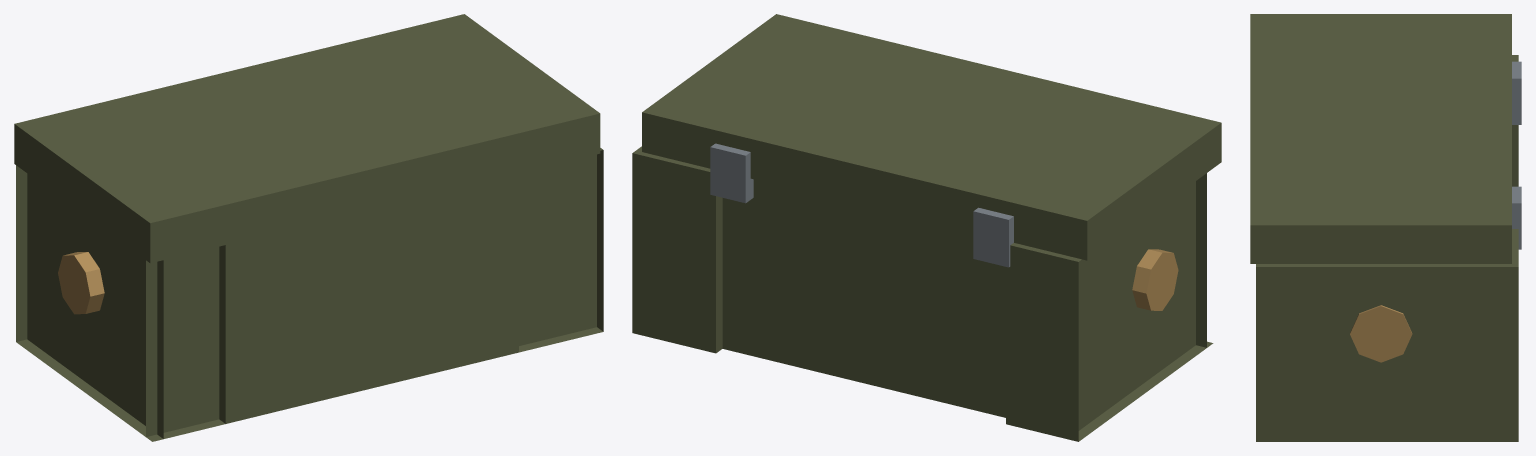
Rendered from ammo-crate.glb.
3 views of the same model, side by side, from view 1: azimuth 30°, elevation 25°; view 2: azimuth 150°, elevation 25°; view 3: azimuth 270°, elevation 25° (orthographic). The views are drawn at different scales.
Parts seen in each view (by area): view 1: Body, Lid, Handle_L; view 2: Body, Lid, Handle_L, Latch_R, Latch_L; view 3: Lid, Body, Handle_R, Latch_L, Latch_R.
Boxes of the visible parts, left/top/right/bottom form: Body: left=16, top=148, right=603, bottom=441; Lid: left=14, top=14, right=600, bottom=263; Handle_L: left=58, top=252, right=104, bottom=314; Body: left=632, top=146, right=1213, bottom=441; Lid: left=642, top=14, right=1221, bottom=260; Handle_L: left=1132, top=249, right=1178, bottom=310; Latch_R: left=710, top=143, right=753, bottom=203; Latch_L: left=973, top=207, right=1013, bottom=267; Lid: left=1250, top=14, right=1511, bottom=263; Body: left=1256, top=55, right=1518, bottom=441; Handle_R: left=1350, top=305, right=1412, bottom=362; Latch_L: left=1512, top=61, right=1521, bottom=124; Latch_R: left=1512, top=186, right=1521, bottom=249.
Size of the model in its own units: 0.912 by 0.415 by 0.477.
